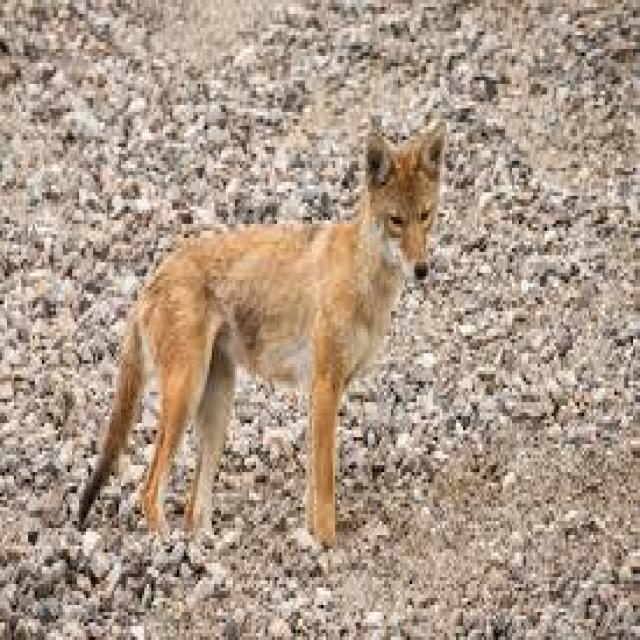Coyote: (76, 100, 456, 567)
